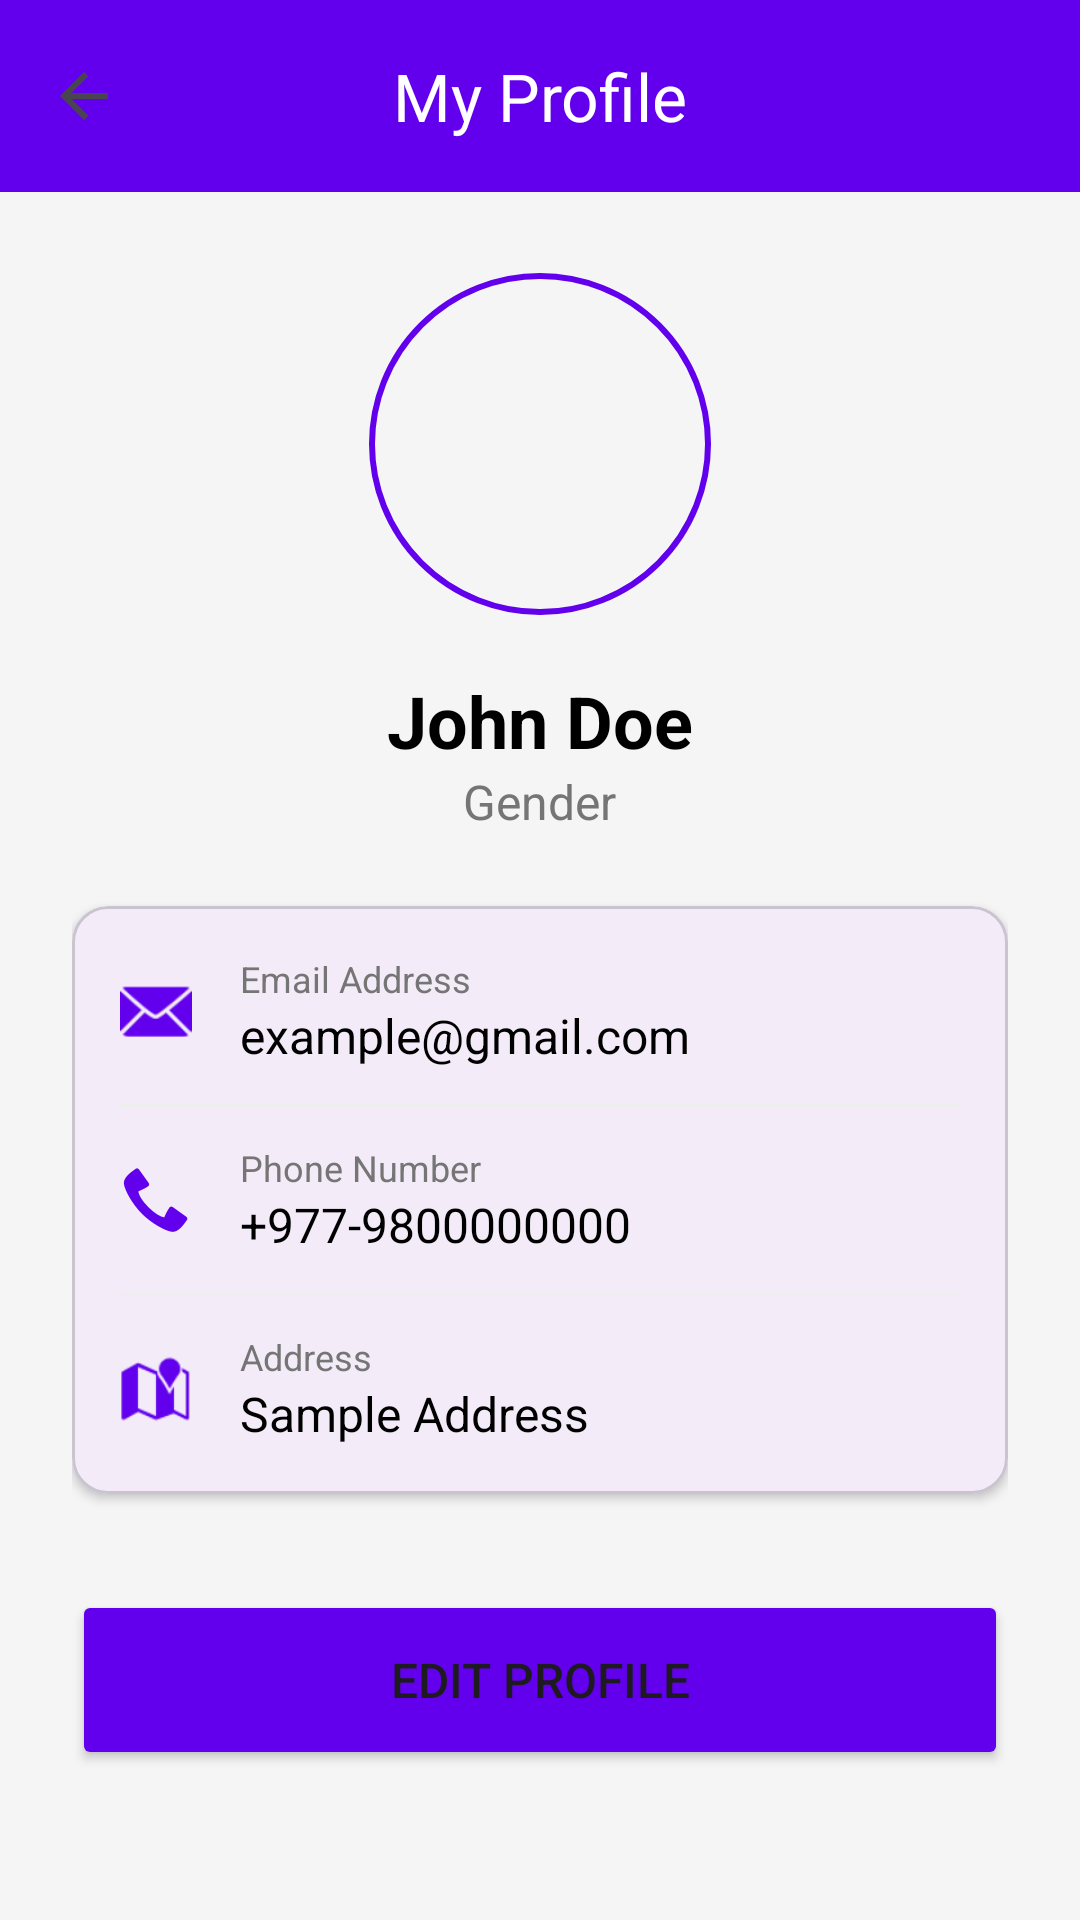

Where to tap for icons on this 1080×1920 app screen, as point (x, y):
map: point (155, 1389)
phone call: point (156, 1200)
